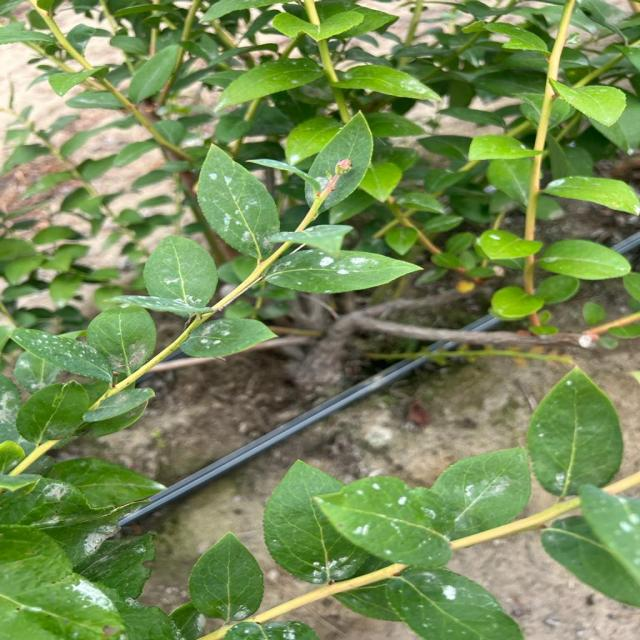Hojas con oidiosis: (260, 458, 376, 584), (419, 445, 533, 539), (194, 142, 281, 258), (262, 247, 425, 294), (186, 530, 265, 624), (141, 234, 218, 317), (84, 301, 158, 375), (13, 378, 91, 445), (328, 64, 444, 104), (177, 316, 279, 358), (80, 387, 156, 422)
